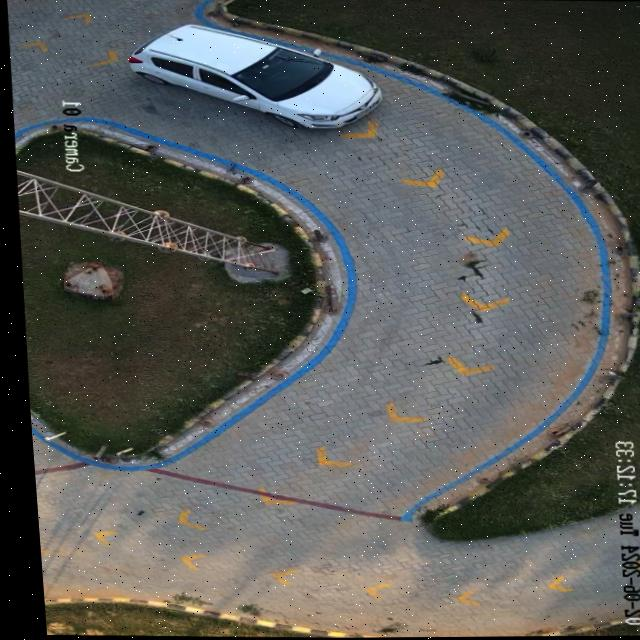car: (124, 21, 379, 132)
